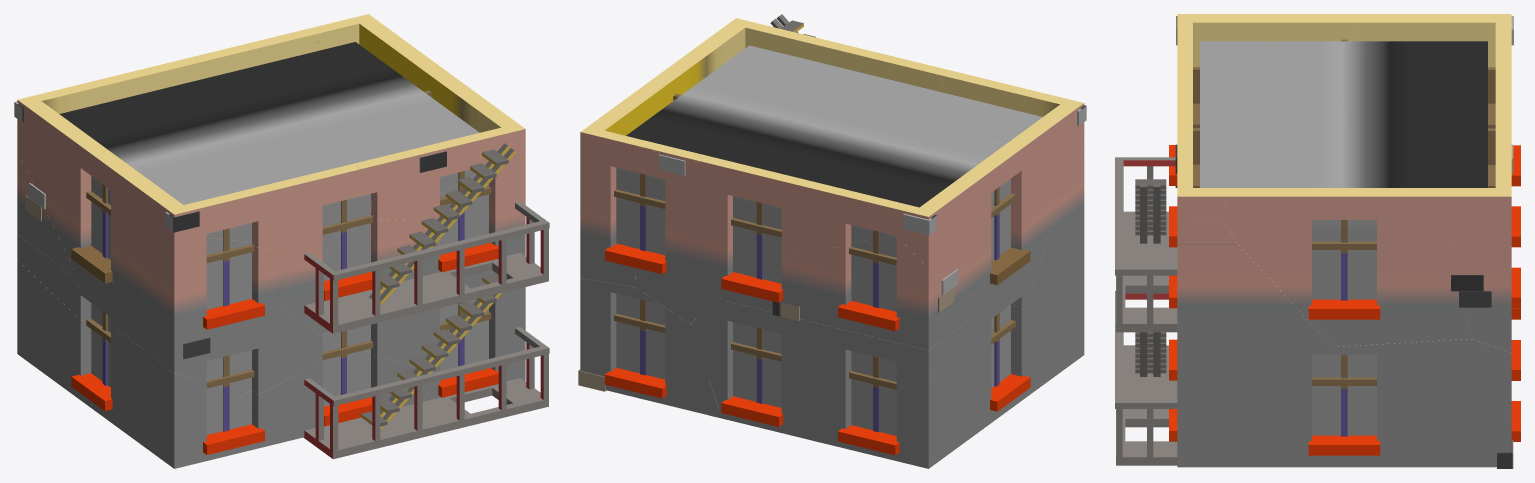
The model's file is House_3_mid_cell.fbx.
3 renders of one model, left to right at view 1: azimuth 30°, elevation 25°; view 2: azimuth 150°, elevation 25°; view 3: azimuth 270°, elevation 25°, orthographic. The views are drawn at different scales.
Parts seen in each view (by area): view 1: polySurface300_cell.023, polySurface300_cell.002, polySurface300_cell.021, polySurface303_cell.004, polySurface303_cell.002, polySurface300_cell.016, polySurface300_cell.011, polySurface303_cell.017, polySurface303_cell.013, polySurface300_cell.017, polySurface300_cell.019, polySurface351 (+30 smaller); view 2: polySurface300_cell.012, polySurface300_cell.022, polySurface300_cell.018, polySurface300_cell.019, polySurface300_cell.021, polySurface300_cell.001, polySurface303_cell.017, polySurface300_cell.013, polySurface300_cell.010, polySurface303_cell.004, polySurface303_cell.013, polySurface303_cell.002 (+20 smaller); view 3: polySurface300_cell.014, polySurface300_cell.009, polySurface300_cell.001, polySurface303_cell.002, polySurface303_cell.017, polySurface303_cell.004, polySurface300_cell.013, polySurface303_cell.013, polySurface300_cell.021, polySurface300_cell.011, polySurface351, polySurface346 (+20 smaller).
Boxes of the visible parts, x1,y1,x2,y2 form: polySurface300_cell.023: [116, 238, 289, 388]; polySurface300_cell.002: [91, 326, 257, 468]; polySurface300_cell.021: [72, 150, 185, 328]; polySurface303_cell.004: [204, 42, 422, 125]; polySurface303_cell.002: [59, 79, 266, 155]; polySurface300_cell.016: [355, 111, 525, 220]; polySurface300_cell.011: [17, 92, 108, 264]; polySurface303_cell.017: [185, 121, 355, 199]; polySurface303_cell.013: [300, 91, 479, 162]; polySurface300_cell.017: [247, 344, 431, 448]; polySurface300_cell.019: [17, 260, 102, 407]; polySurface351: [304, 252, 548, 333]; polySurface300_cell.012: [690, 299, 994, 433]; polySurface300_cell.022: [719, 236, 985, 350]; polySurface300_cell.018: [635, 147, 731, 323]; polySurface300_cell.019: [784, 343, 1001, 468]; polySurface300_cell.021: [983, 101, 1084, 325]; polySurface300_cell.001: [580, 278, 721, 418]; polySurface303_cell.017: [805, 75, 1019, 145]; polySurface300_cell.013: [580, 108, 644, 287]; polySurface300_cell.010: [754, 169, 899, 254]; polySurface303_cell.004: [626, 94, 828, 172]; polySurface303_cell.013: [682, 45, 871, 124]; polySurface303_cell.002: [777, 134, 957, 207]; polySurface300_cell.014: [1223, 188, 1471, 346]; polySurface300_cell.009: [1177, 244, 1332, 467]; polySurface300_cell.001: [1256, 339, 1511, 467]; polySurface303_cell.002: [1328, 41, 1487, 119]; polySurface303_cell.017: [1200, 56, 1351, 134]; polySurface303_cell.004: [1344, 119, 1487, 187]; polySurface300_cell.013: [1441, 166, 1511, 352]; polySurface303_cell.013: [1200, 134, 1343, 187]; polySurface300_cell.021: [1177, 14, 1357, 66]; polySurface300_cell.011: [1352, 14, 1511, 67]; polySurface351: [1116, 211, 1177, 332]; polySurface346: [1116, 345, 1177, 465].
Size of the model in its own units: 1414 by 978 by 1274.
